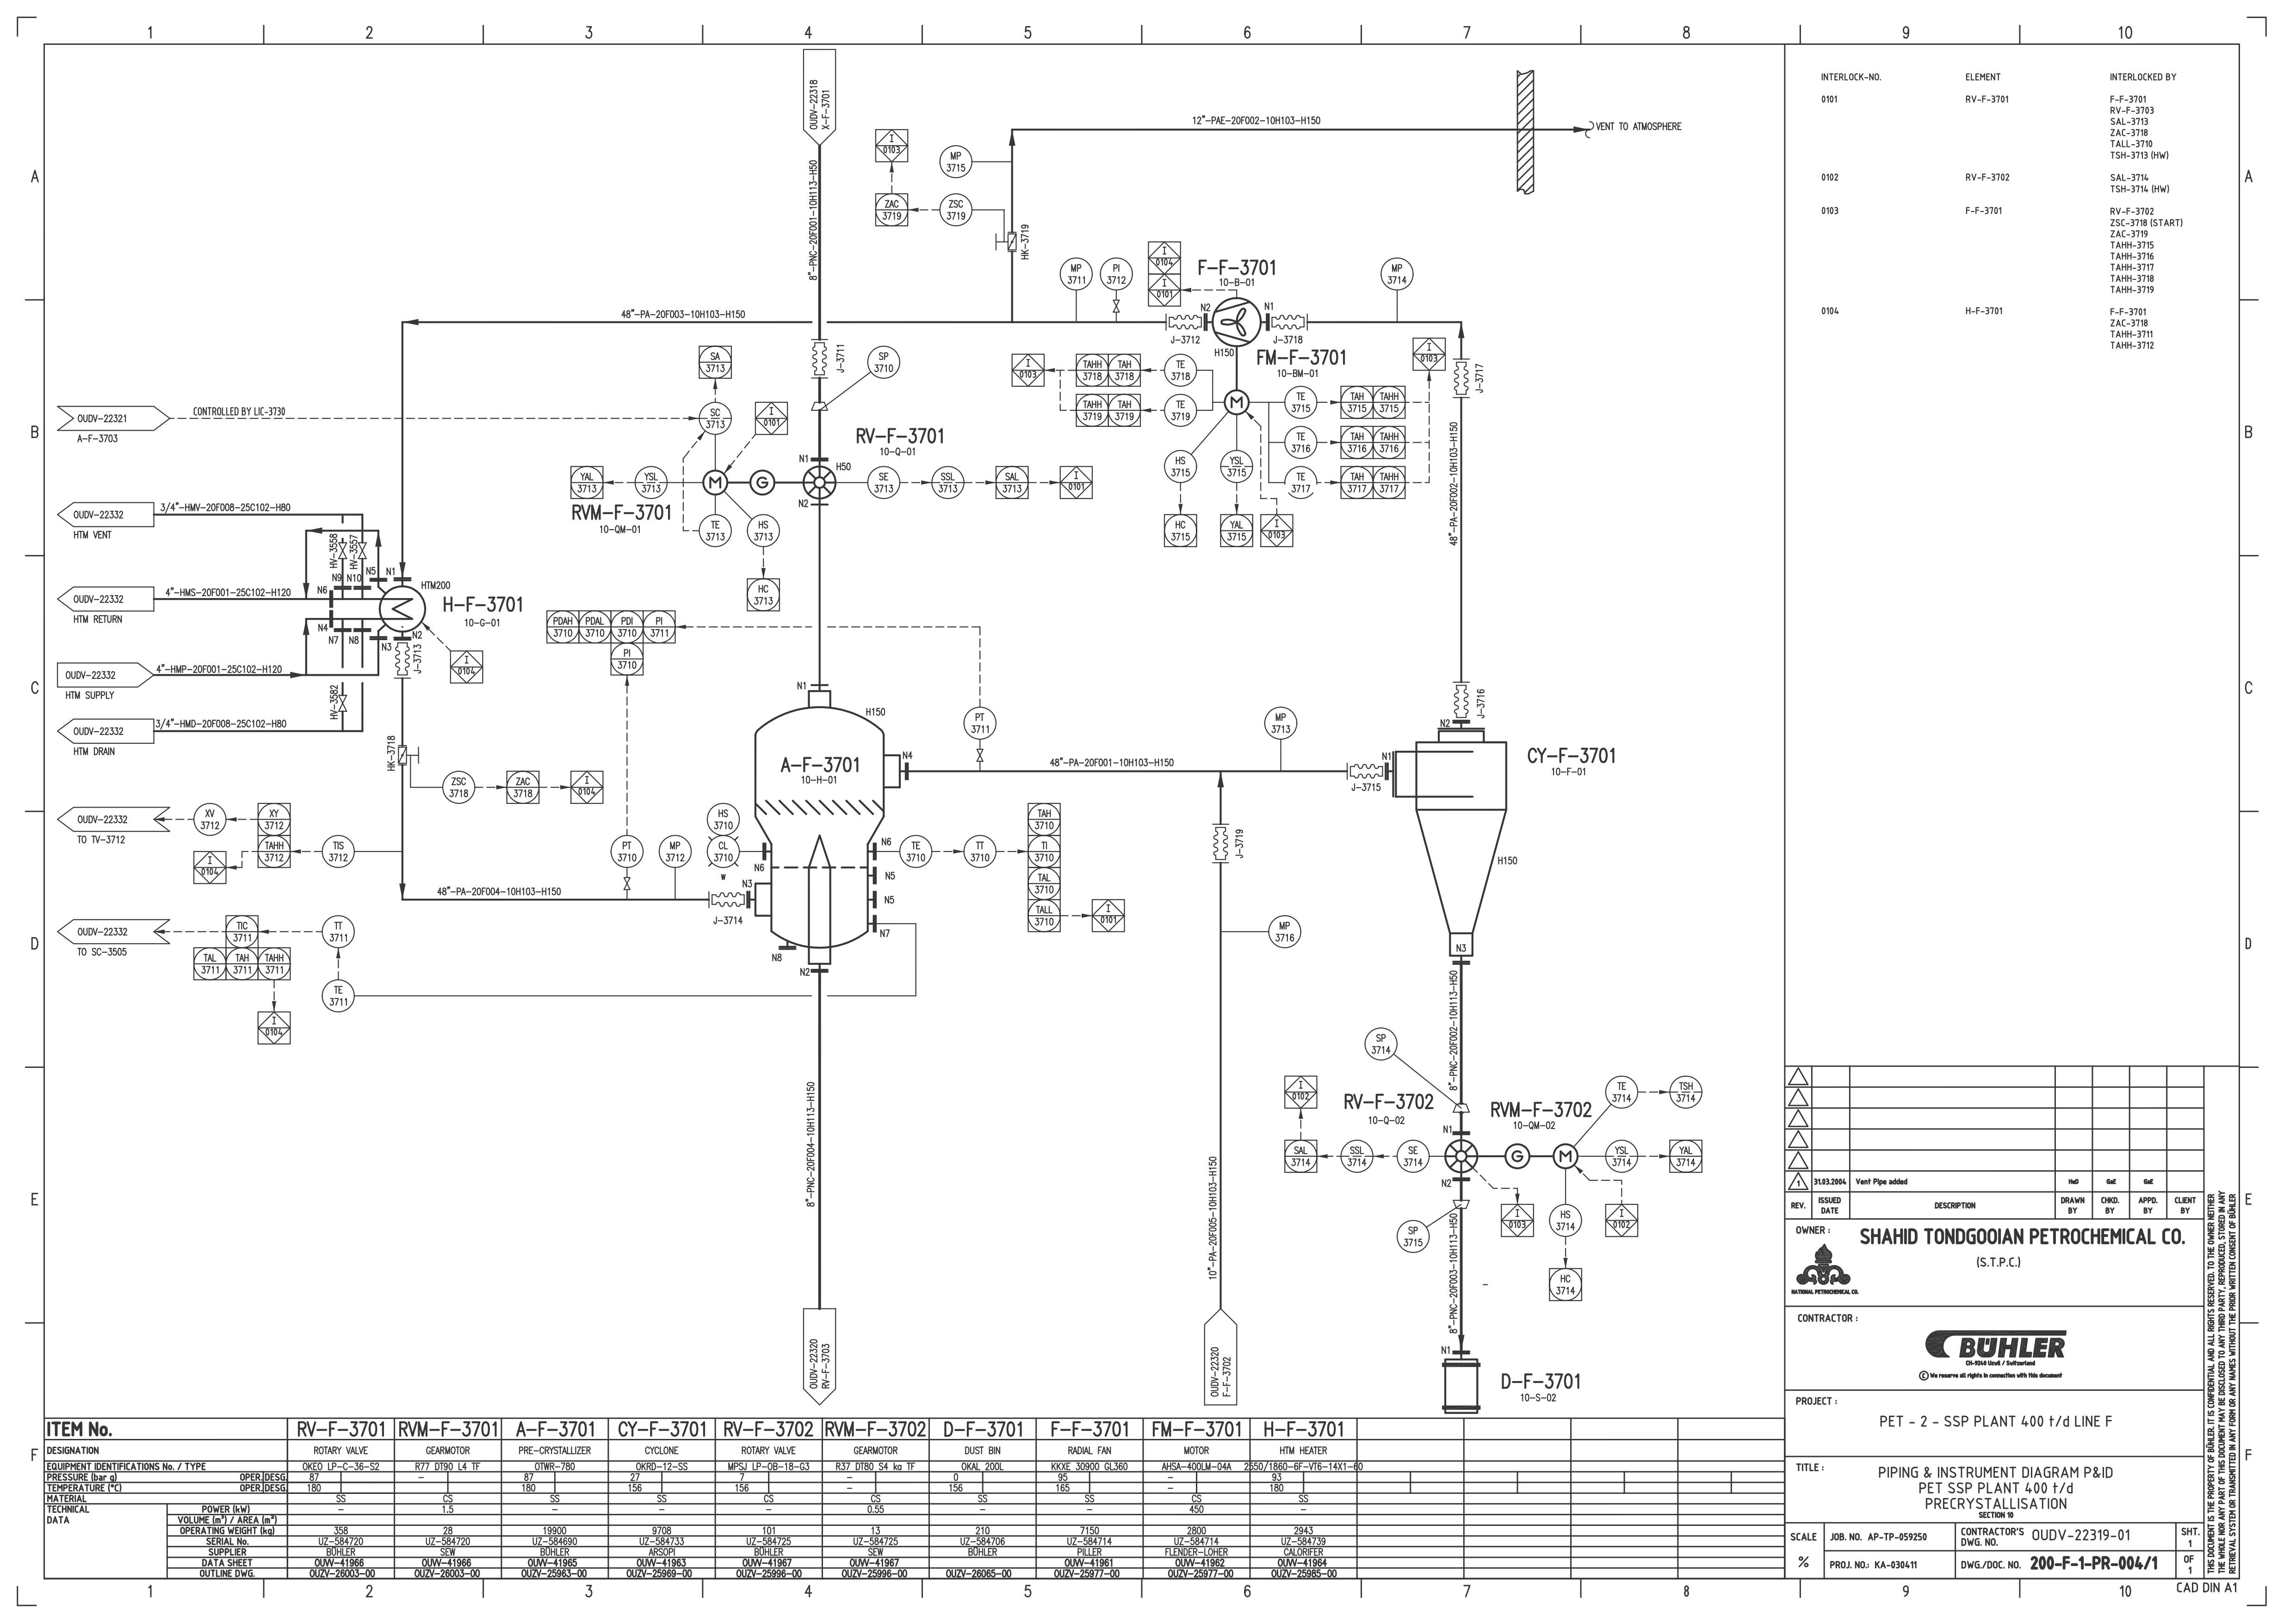A1: (752, 687, 903, 966)
BV: (395, 741, 423, 769), (994, 230, 1019, 255)
CY: (1391, 725, 1511, 961)
D2: (1439, 1358, 1483, 1416)
EJ: (1161, 309, 1205, 334), (1342, 759, 1386, 783), (1449, 678, 1472, 722), (1451, 355, 1472, 400), (1209, 820, 1230, 864), (704, 889, 748, 910), (1268, 311, 1309, 334), (810, 337, 829, 381), (393, 638, 413, 680)
F: (1212, 295, 1263, 346)
GV: (337, 541, 350, 562), (358, 539, 369, 560), (337, 692, 348, 713), (1112, 295, 1123, 313), (624, 875, 632, 891)
HE: (378, 583, 427, 634)
M: (1223, 386, 1251, 416)
RV1: (801, 464, 838, 501), (1442, 1138, 1481, 1173)
RVM: (1502, 1142, 1581, 1172), (701, 467, 776, 495)
SP: (1451, 1101, 1472, 1117), (1449, 1198, 1472, 1210)
